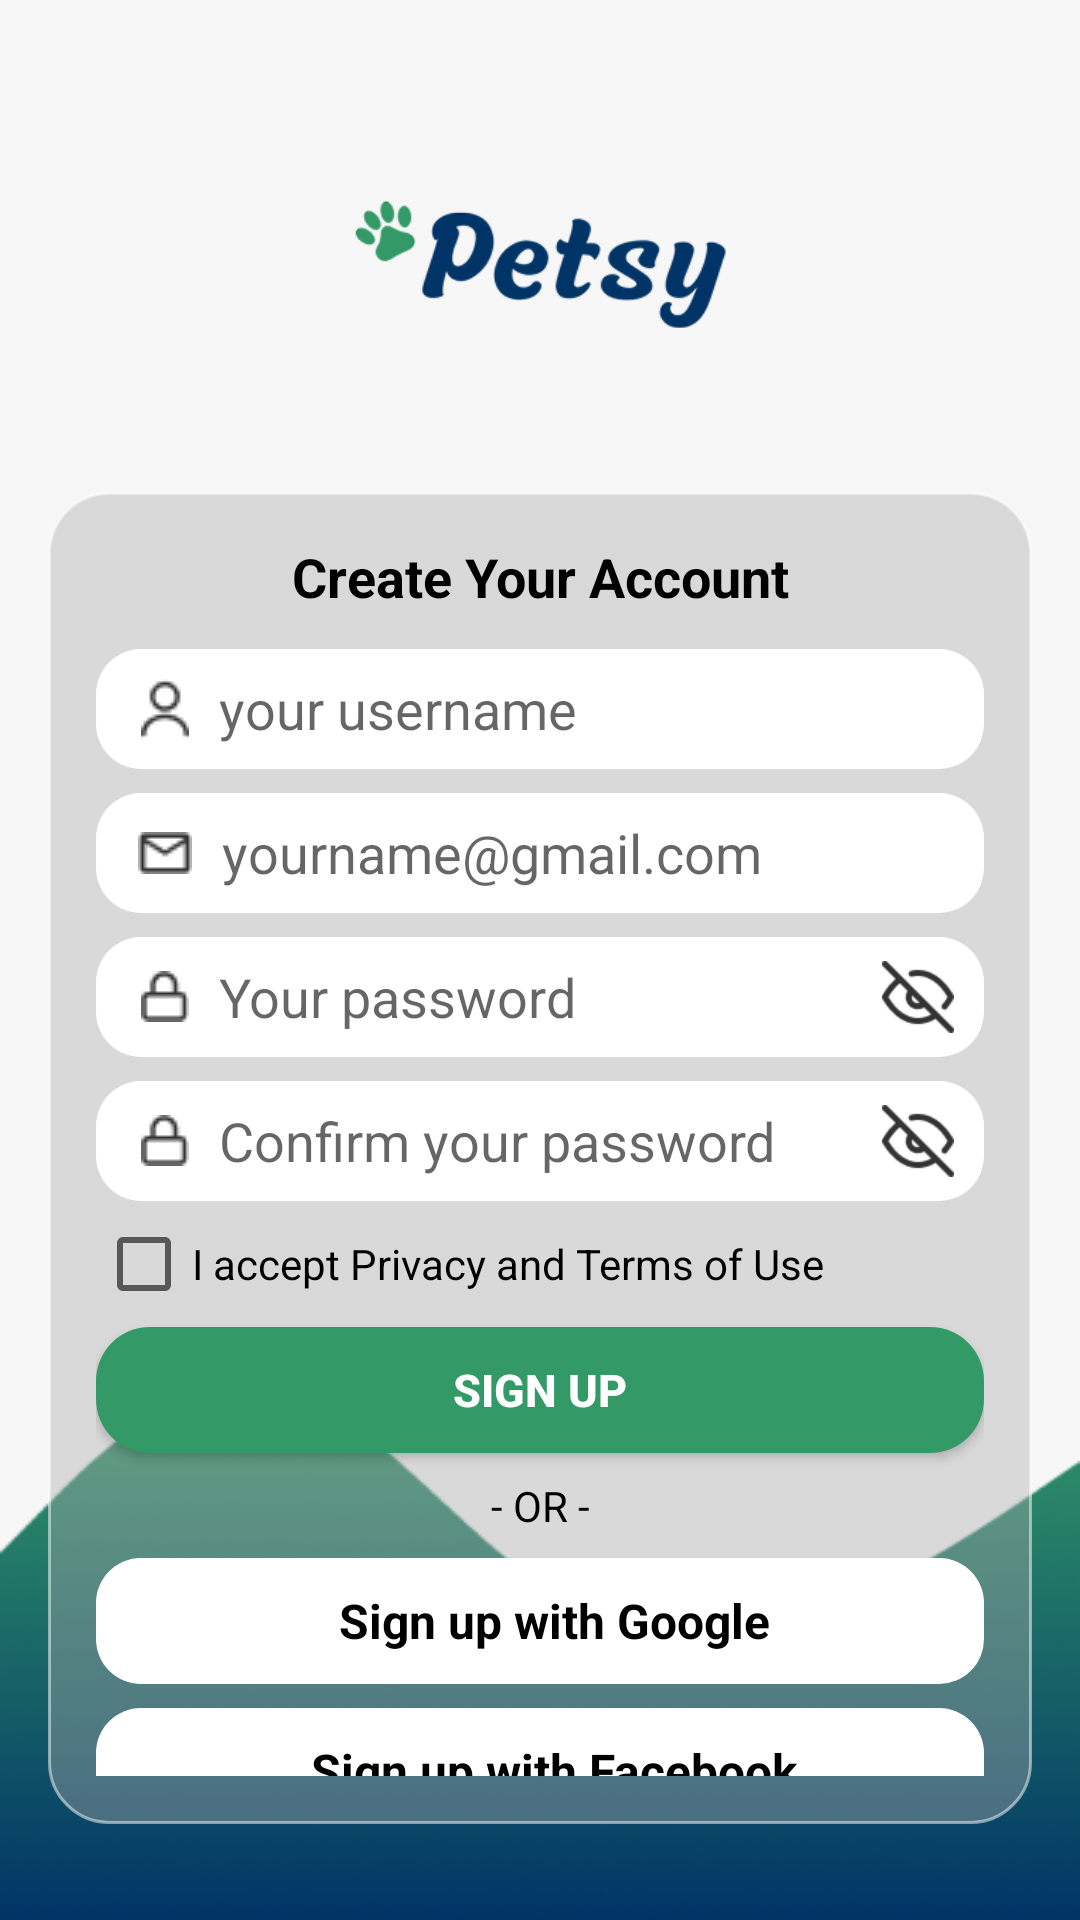

Where to tap for icons on this 1080w x 1920h app screen, as point (x, y):
eye closed: point (918, 997), point (918, 1141)
